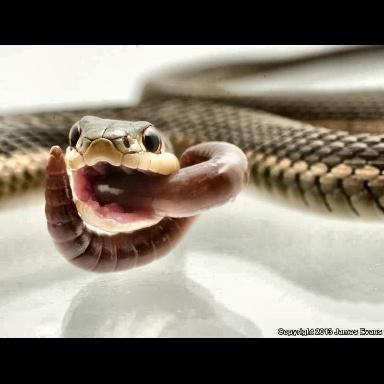snake: (0, 92, 384, 272)
